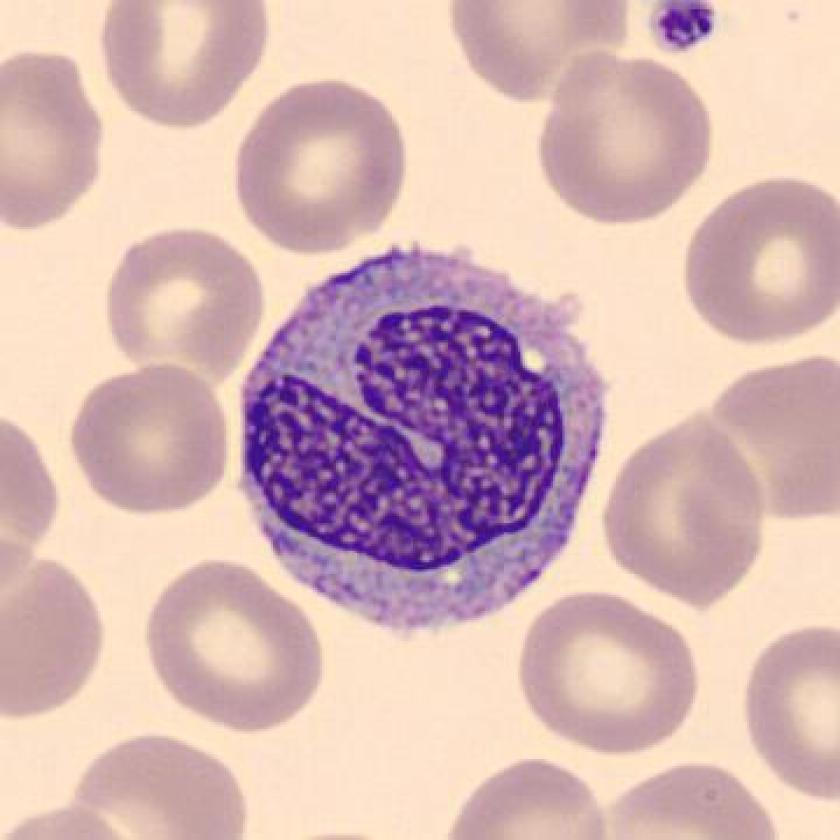monocyte: (211, 225, 631, 649)
